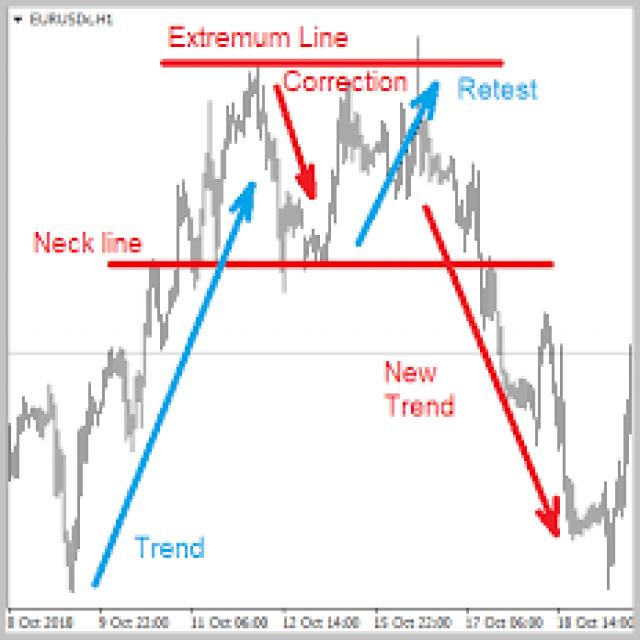topo_duplo: (143, 26, 503, 377)
